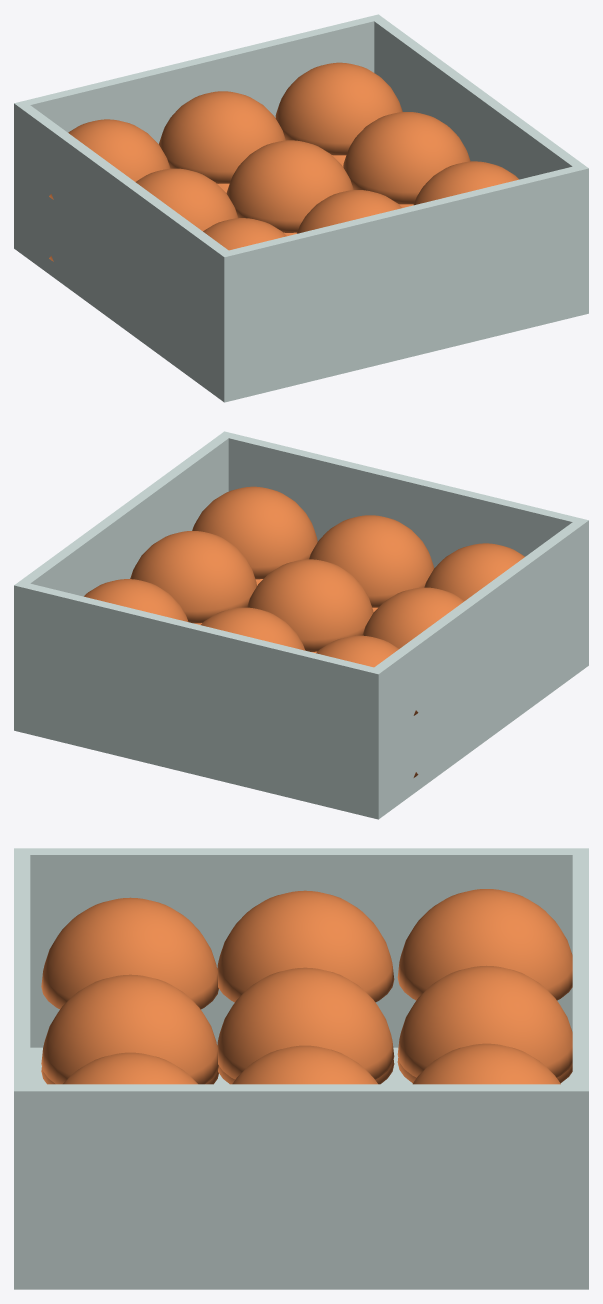
The model's file is kue nastar.fbx.
The picture shows the model from 3 angles, top to bottom: view 1: azimuth 30°, elevation 25°; view 2: azimuth 150°, elevation 25°; view 3: azimuth 270°, elevation 25°; orthographic projection. The views are drawn at different scales.
Parts seen in each view (by area): view 1: Cube, Sphere.013, Sphere.016, Sphere.014, Sphere.017, Sphere.015, Sphere.018, Sphere.010, Sphere.011, Sphere.012; view 2: Cube, Sphere.013, Sphere.014, Sphere.010, Sphere.011, Sphere.015, Sphere.012, Sphere.017, Sphere.016, Sphere.018; view 3: Cube, Sphere.011, Sphere.014, Sphere.017, Sphere.012, Sphere.015, Sphere.018, Sphere.016, Sphere.013, Sphere.010.
Part boxes in pixels (bbox=[...]): Cube: bbox=[14, 14, 588, 402]; Sphere.013: bbox=[343, 112, 470, 204]; Sphere.016: bbox=[275, 62, 402, 155]; Sphere.014: bbox=[226, 140, 353, 232]; Sphere.017: bbox=[159, 91, 285, 183]; Sphere.015: bbox=[135, 168, 238, 231]; Sphere.018: bbox=[49, 119, 170, 199]; Sphere.010: bbox=[413, 161, 518, 205]; Sphere.011: bbox=[297, 190, 401, 233]; Sphere.012: bbox=[203, 218, 286, 250]; Cube: bbox=[14, 431, 588, 819]; Sphere.013: bbox=[130, 531, 256, 623]; Sphere.014: bbox=[247, 559, 373, 651]; Sphere.010: bbox=[192, 486, 317, 579]; Sphere.011: bbox=[309, 515, 434, 607]; Sphere.015: bbox=[362, 587, 464, 648]; Sphere.012: bbox=[424, 543, 524, 600]; Sphere.017: bbox=[201, 607, 305, 650]; Sphere.016: bbox=[84, 579, 188, 621]; Sphere.018: bbox=[316, 635, 418, 715]; Cube: bbox=[14, 848, 588, 1289]; Sphere.011: bbox=[41, 974, 218, 1084]; Sphere.014: bbox=[217, 967, 394, 1079]; Sphere.017: bbox=[397, 965, 572, 1077]; Sphere.012: bbox=[41, 897, 218, 1009]; Sphere.015: bbox=[217, 890, 394, 1002]; Sphere.018: bbox=[397, 889, 572, 1000]; Sphere.016: bbox=[413, 1043, 560, 1084]; Sphere.013: bbox=[232, 1045, 377, 1084]; Sphere.010: bbox=[63, 1052, 197, 1084].
Bounding box in the file's own units: 150 × 56.89 × 149.
